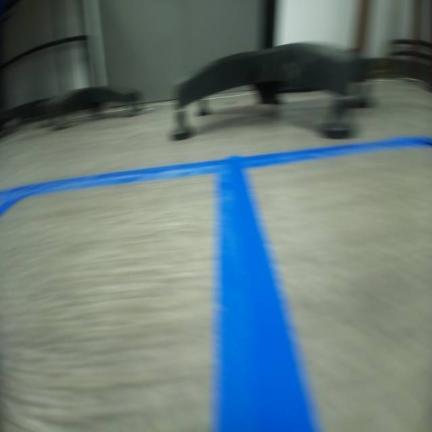place: (0, 153, 325, 431), (212, 134, 431, 430)
